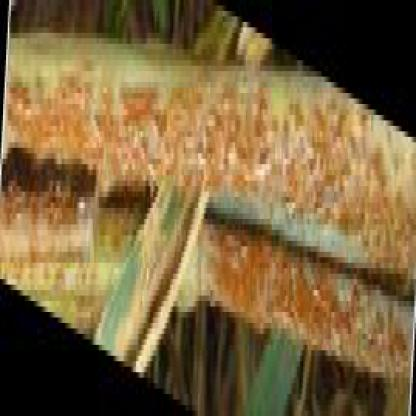wheat Stem Rust: (11, 73, 152, 219), (268, 90, 353, 260), (359, 136, 414, 378), (163, 81, 253, 196), (215, 262, 354, 301), (214, 181, 251, 249), (165, 247, 184, 275), (149, 261, 160, 307), (127, 319, 143, 350)
